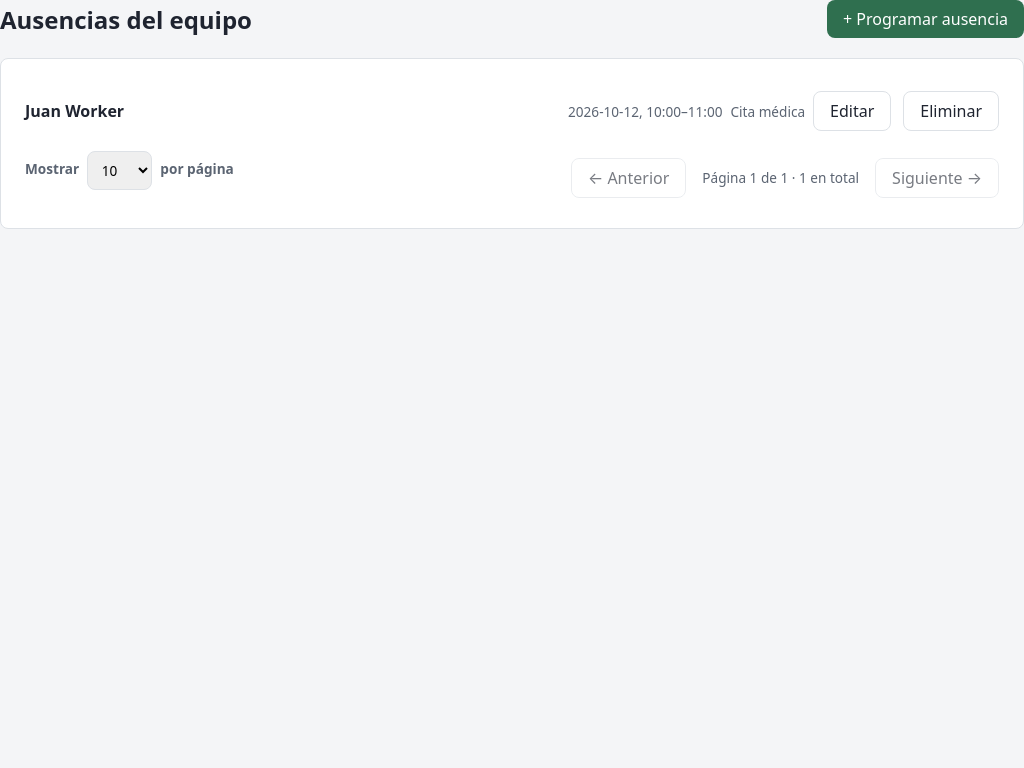
Test: SupervisorAbsences › muestra el mensaje de un ApiError si falla eliminar una ausencia
The image size is (1024, 768).
expect the text "Juan Worker" is shown: met, box [25, 100, 124, 122]
Click the button "Eliminar" at (951, 111), box [903, 91, 999, 131]
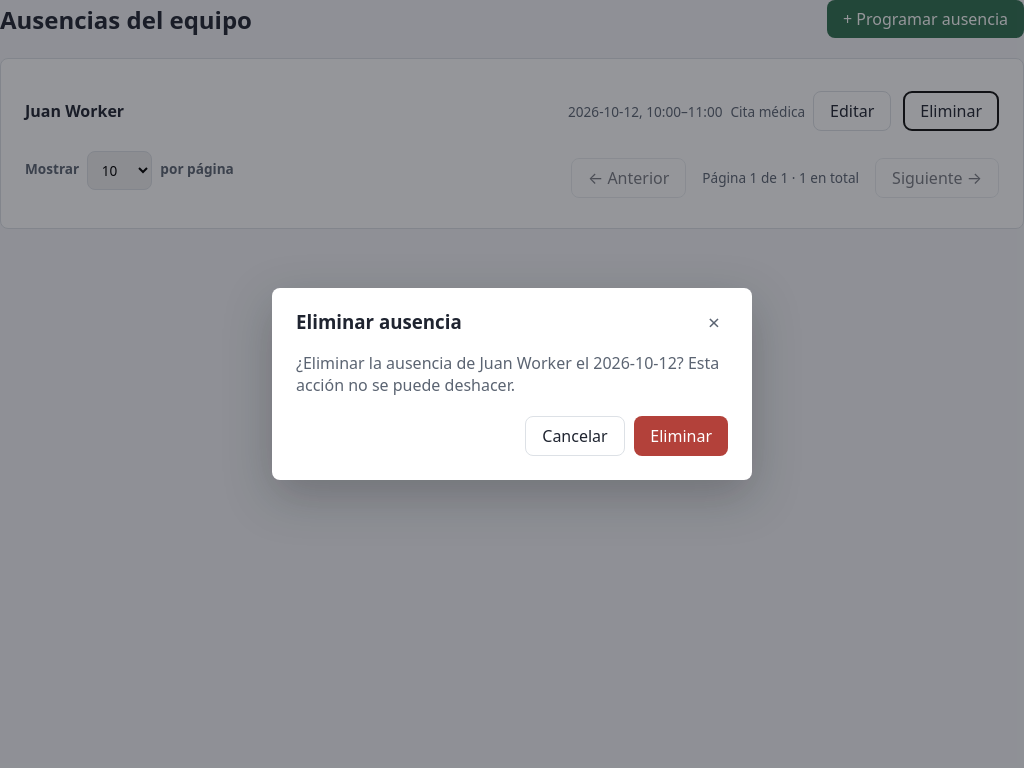
Click the button "Eliminar" at (681, 436), box [634, 416, 728, 456]
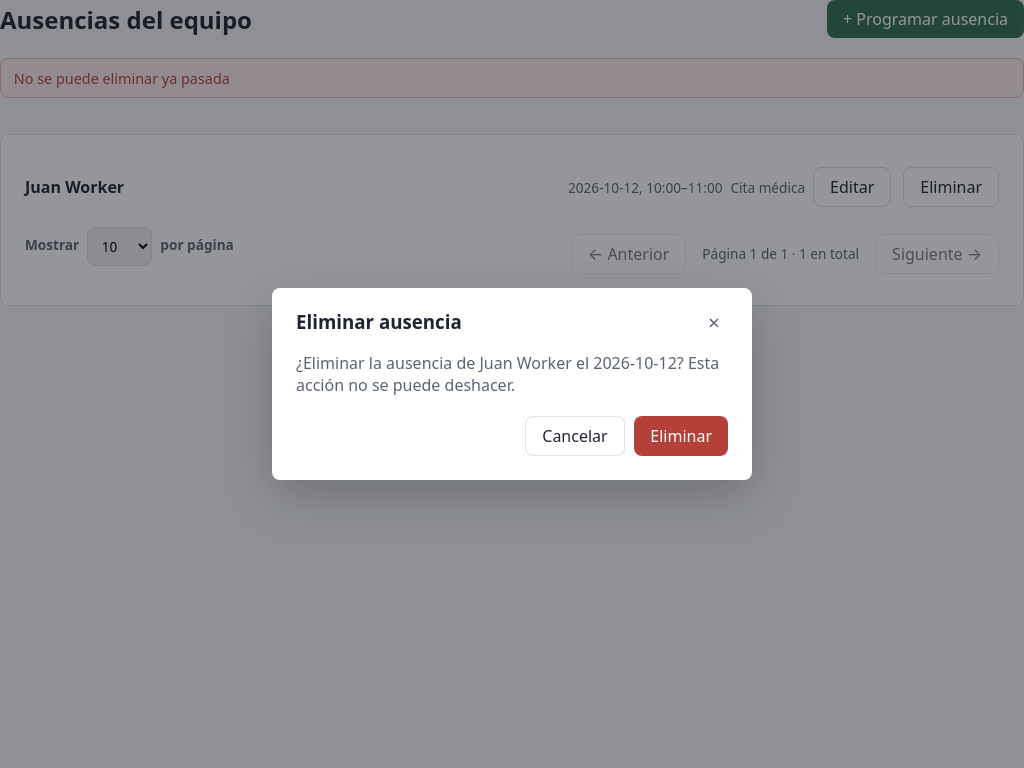
expect the text "No se puede eliminar ya pasada" is shown: met, box [0, 58, 1023, 98]
